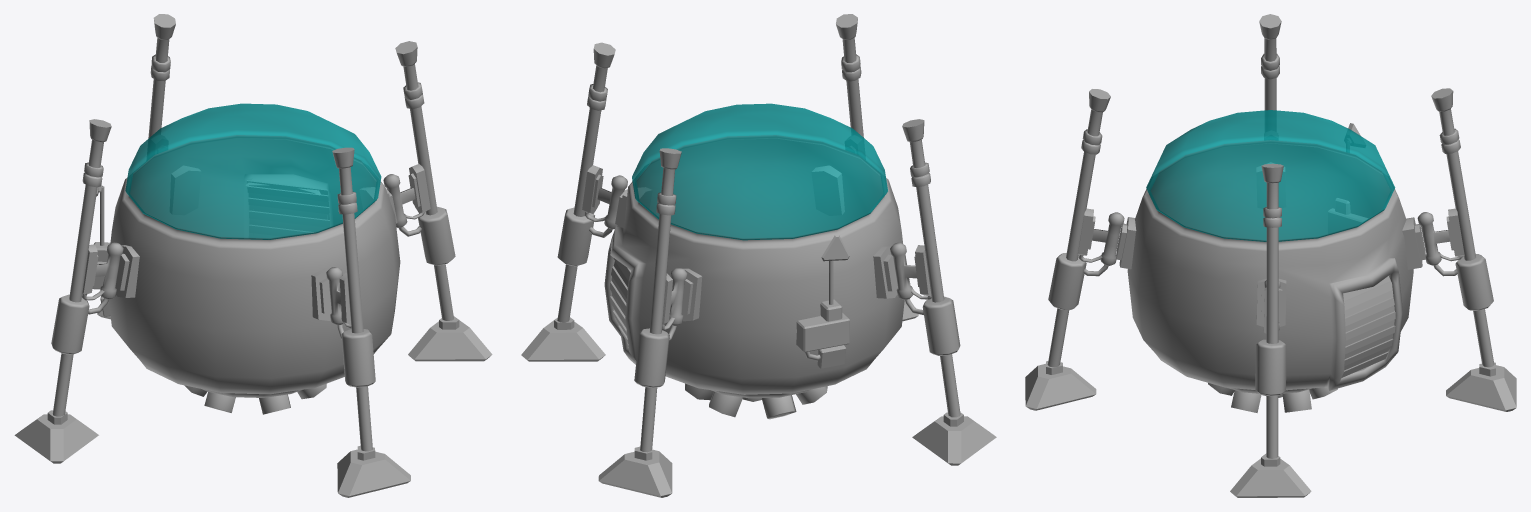
File: SM_DropShip_Final.fbx
3 views of the same model, side by side, from view 1: azimuth 30°, elevation 25°; view 2: azimuth 150°, elevation 25°; view 3: azimuth 270°, elevation 25° (orthographic). The views are drawn at different scales.
Parts seen in each view (by area): view 1: capsule, pCylinder2 (×4), pCone1 (×3), stabilizer (×3), door1, pCube5 (×3), pCylinder12 (×3), pCube6 (×2); view 2: capsule, pCylinder2 (×4), pCone1 (×3), stabilizer (×3), pCube5 (×4), pCylinder12 (×3), pCube1, pCube6 (×2), door1, pCylinder6, pCylinder5, pCube4; view 3: capsule, pCylinder2 (×4), pCone1 (×3), stabilizer (×3), door1, pCube5 (×4), pCylinder12 (×2), pCube6 (×2), pCube1, pCylinder4.
Part boxes in pixels (bbox=[...]): capsule: bbox=[109, 103, 400, 397]; pCylinder2 (×4): bbox=[52, 14, 453, 451]; pCone1 (×3): bbox=[14, 316, 492, 497]; stabilizer (×3): bbox=[51, 206, 455, 387]; door1: bbox=[247, 180, 330, 238]; pCube5 (×3): bbox=[115, 165, 331, 321]; pCylinder12 (×3): bbox=[95, 174, 415, 324]; pCube6 (×2): bbox=[82, 164, 430, 294]; capsule: bbox=[604, 103, 904, 398]; pCylinder2 (×4): bbox=[557, 14, 960, 452]; pCone1 (×3): bbox=[521, 317, 996, 497]; stabilizer (×3): bbox=[557, 207, 960, 387]; pCube5 (×4): bbox=[615, 165, 897, 321]; pCylinder12 (×3): bbox=[597, 175, 916, 325]; pCube1: bbox=[796, 313, 849, 352]; pCube6 (×2): bbox=[582, 165, 931, 296]; door1: bbox=[610, 258, 630, 342]; pCylinder6: bbox=[762, 395, 796, 419]; pCylinder5: bbox=[709, 391, 742, 417]; pCube4: bbox=[817, 345, 846, 368]; capsule: bbox=[1127, 110, 1413, 393]; pCylinder2 (×4): bbox=[1047, 14, 1494, 458]; pCone1 (×3): bbox=[1025, 361, 1516, 497]; stabilizer (×3): bbox=[1048, 253, 1493, 396]; door1: bbox=[1341, 276, 1395, 377]; pCube5 (×4): bbox=[1116, 162, 1425, 326]; pCylinder12 (×2): bbox=[1092, 212, 1449, 265]; pCube6 (×2): bbox=[1078, 208, 1464, 256]; pCube1: bbox=[1328, 208, 1367, 233]; pCylinder4: bbox=[1282, 389, 1311, 412].
Size of the model in its own units: 2132 by 1458 by 2131.
